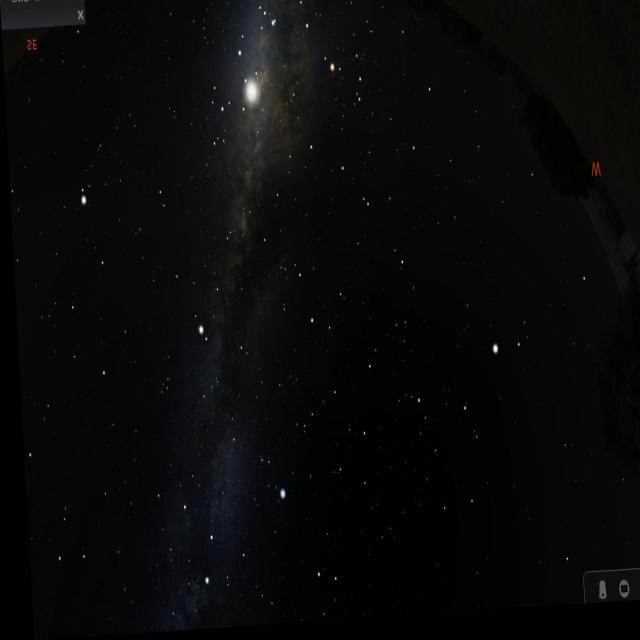aquila: (153, 218, 260, 382)
bootes: (414, 308, 539, 526)
cygnus: (169, 408, 244, 594)
lyra: (247, 453, 286, 510)
moon: (226, 61, 272, 128)
sagittarius: (182, 46, 250, 148)
scorpius: (246, 0, 375, 132)
